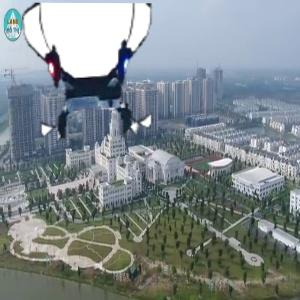drone: (20, 4, 164, 148)
